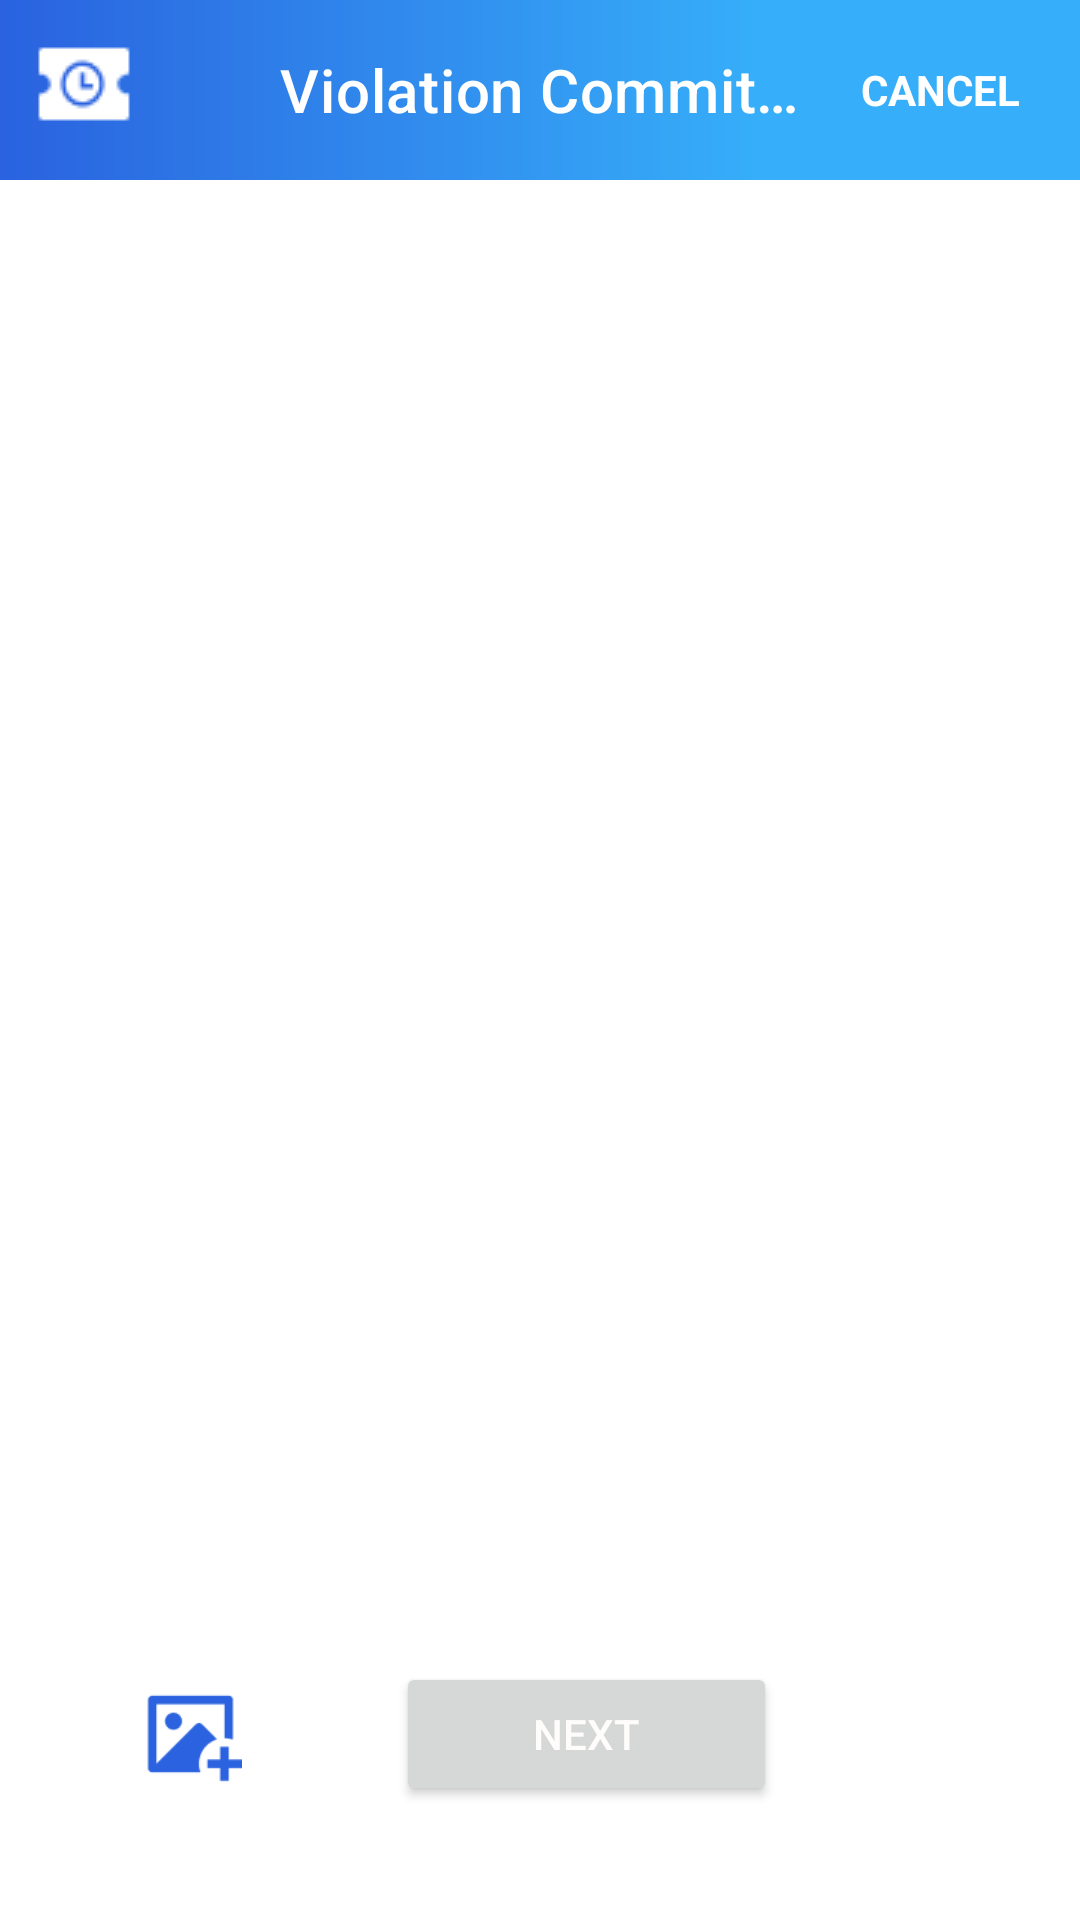

Locate icon controls on the screen. Image size 1080 × 1920, boxes as (x1, y1, x2, y2).
addimageblue: (147, 1695, 242, 1782)
